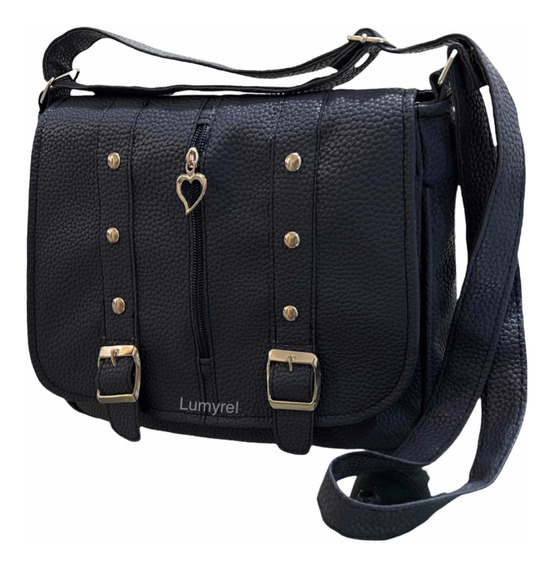cartera: (23, 24, 534, 455)
